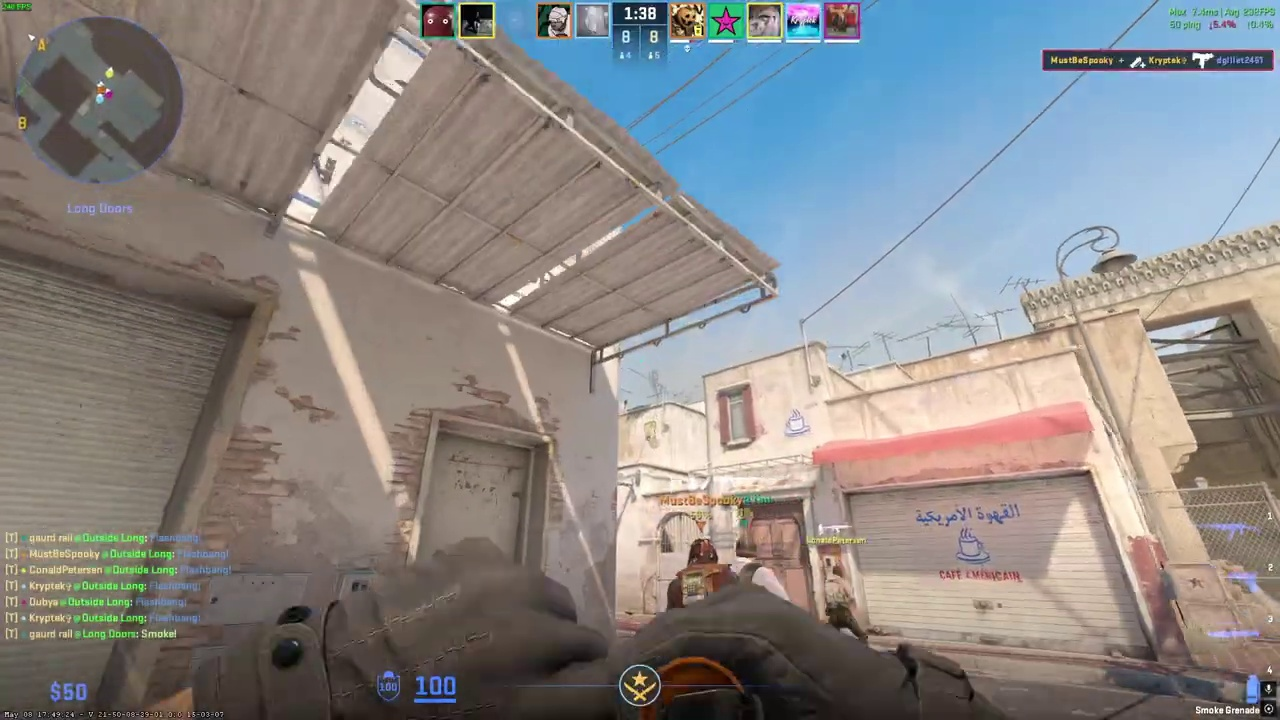Terrorist: (668, 536, 736, 609), (822, 563, 863, 639)
